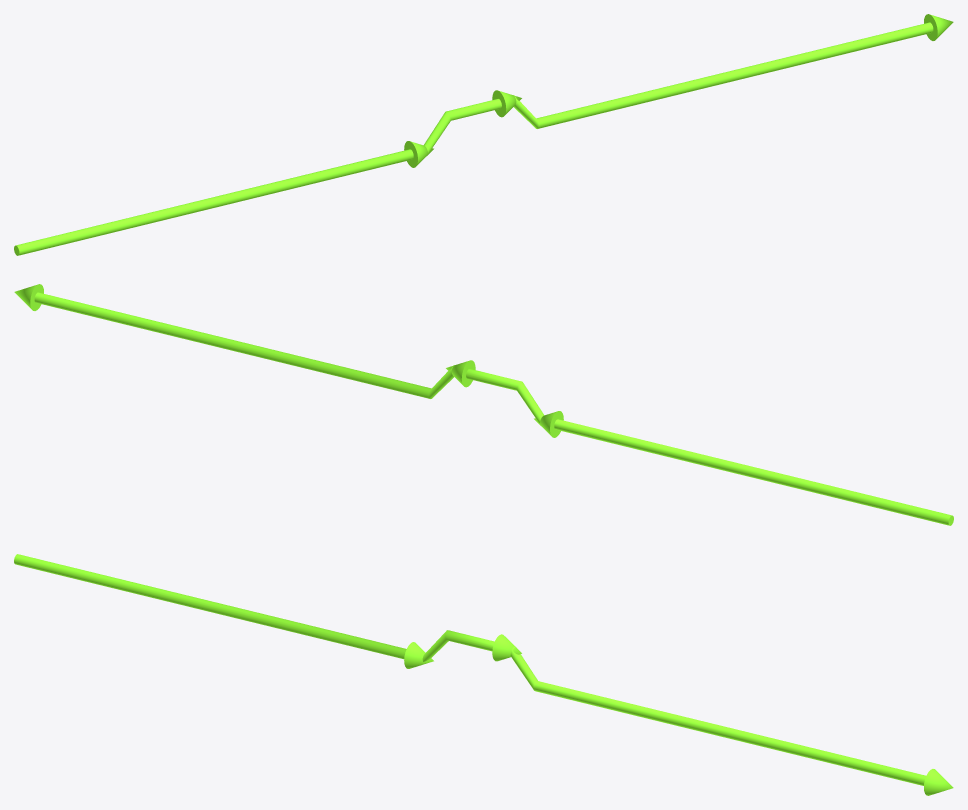
File: flame_arrestor_flow.glb
3 renders of one model, top to bottom at view 1: azimuth 30°, elevation 25°; view 2: azimuth 150°, elevation 25°; view 3: azimuth 330°, elevation 25°, orthographic.
Parts seen in each view (by area): view 1: gas; view 2: gas; view 3: gas.
Part boxes in pixels (x1=…): gas: x1=14, y1=14, x2=953, y2=255; gas: x1=14, y1=284, x2=953, y2=525; gas: x1=14, y1=554, x2=953, y2=795.
Size of the model in its own units: 2.02 by 0.112 by 0.052.
